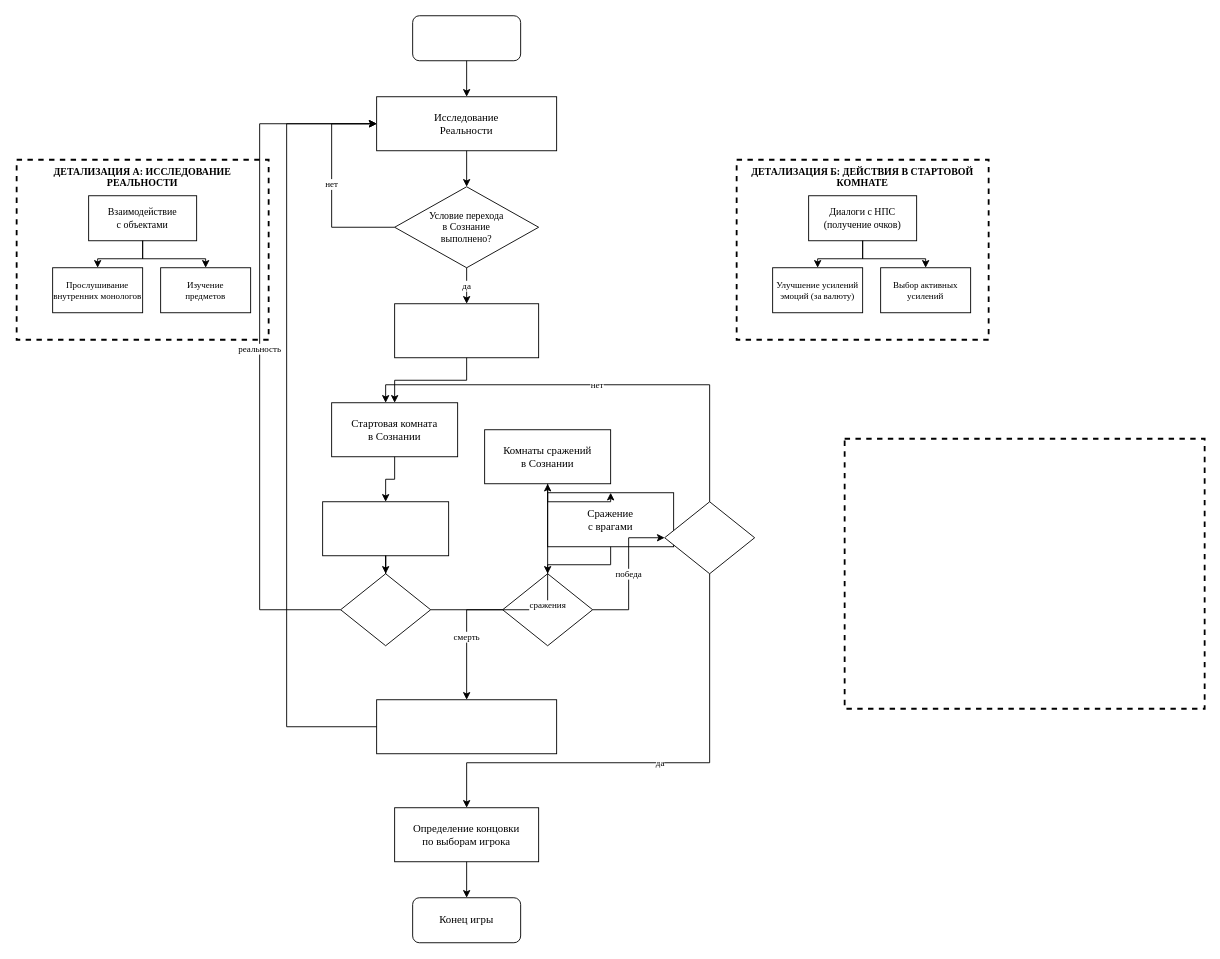
Some shapes in this 1220 by 959 pixel diagram are drawn without their labels. Each missing label, with the centre of its shape:
"Босс побежден?" belongs at (709,537).
"Вход в пространство «Сознание»" belongs at (466,330).
"Выбрать направление?" belongs at (385,609).
"Действия игрока (диалоги, усиления)" belongs at (385,528).
"ИГРОВОЙ ЦИКЛ В СОЗНАНИИ" belongs at (1024,573).
"Начало игры" belongs at (466,38).
"Победа или смерть?" belongs at (547,609).
"Смерть: возврат в Реальность" belongs at (466,726).
